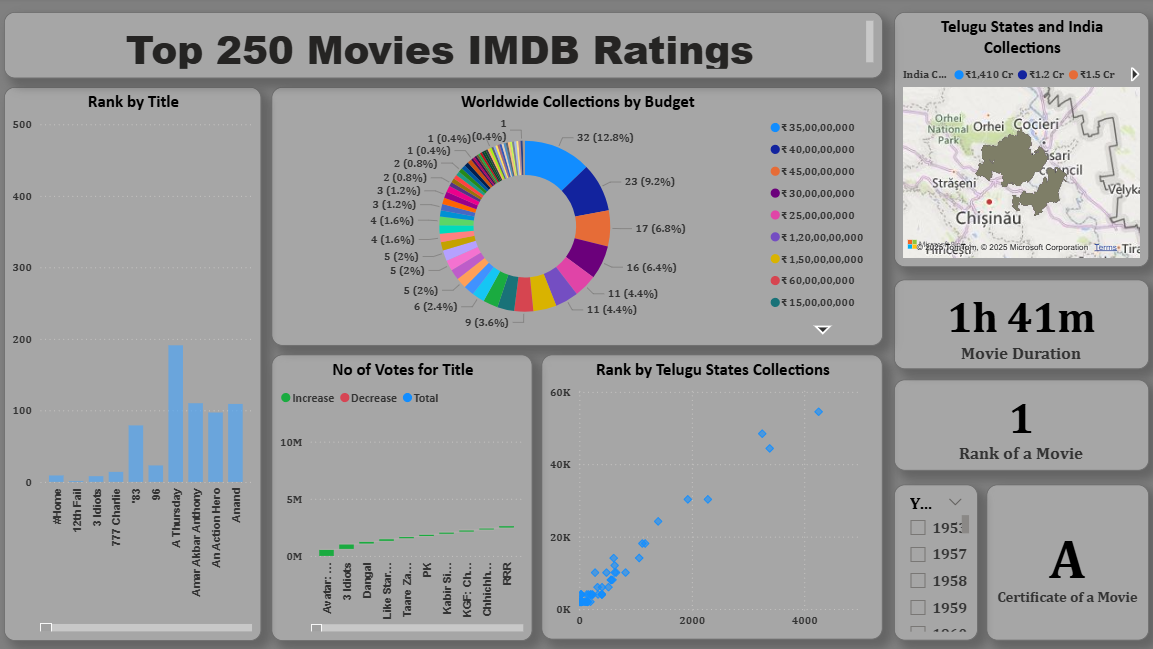

The dashboard page shown, as its layout file describes it:
{"tool":"powerbi","page":{"name":"Page 1","canvas":[1280,720],"ordinal":0},"visuals":[{"type":"filledMap","fields":{"Category":["movies.Telugu States Collections (INR)"],"Series":["movies.India Collections (INR)"]},"box":[988,16.5,279.9,279.9],"z":0},{"type":"card","fields":{"Values":["Min(movies.Duration)"]},"box":[988,310.1,279.9,98.8],"z":1000},{"type":"columnChart","title":"Rank by Title","fields":{"Category":["movies.Title"],"Y":["Sum(movies.Rank)"]},"box":[11,98.8,282.7,607.9],"z":2000},{"type":"donutChart","fields":{"Category":["movies.Budget"],"Y":["CountNonNull(movies.Worldwide Collections)"]},"box":[304.6,98.8,671,284],"z":3000},{"type":"waterfallChart","title":"No of Votes for Title","fields":{"Category":["movies.Title"],"Y":["Sum(movies.Number of Votes)"]},"box":[304.6,392.5,286.8,314.2],"z":4000},{"type":"scatterChart","title":"Rank by Telugu States Collections ","fields":{"Category":["movies.Telugu States Collections (INR)"],"X":["Sum(movies.Rank)"],"Y":["Sum(movies.Year)"]},"box":[601,392.5,374.6,312.9],"z":5000},{"type":"card","fields":{"Values":["Min(movies.Rank)"]},"box":[988,419.9,279.9,100.2],"z":6000},{"type":"slicer","fields":{"Values":["movies.Year"]},"box":[988,535.2,91.9,171.5],"z":7000},{"type":"card","fields":{"Values":["Min(movies.Certificate)"]},"box":[1089.5,535.2,178.4,171.5],"z":8000},{"type":"textbox","box":[11,16.5,964.7,72.7],"z":9000}]}

Visuals, with their boxes in screenshot pixels (x1, y1, x2, y2), scaled from the page's 1280x720 canvas onto the 1153x649 screenshot:
filledMap - movies.Telugu States Collections (INR) x movies.India Collections (INR): crop(890, 15, 1142, 267)
card - Min(movies.Duration): crop(890, 280, 1142, 369)
"Rank by Title" columnChart: crop(10, 89, 265, 637)
donutChart - movies.Budget x CountNonNull(movies.Worldwide Collections): crop(274, 89, 879, 345)
"No of Votes for Title" waterfallChart: crop(274, 354, 533, 637)
"Rank by Telugu States Collections " scatterChart: crop(541, 354, 879, 636)
card - Min(movies.Rank): crop(890, 378, 1142, 469)
slicer - movies.Year: crop(890, 482, 973, 637)
card - Min(movies.Certificate): crop(981, 482, 1142, 637)
textbox: crop(10, 15, 879, 80)
